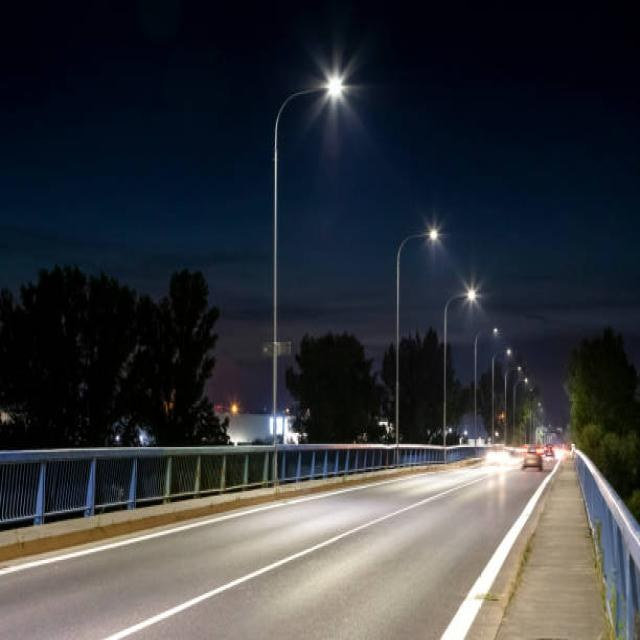acesa: (317, 51, 364, 124), (456, 273, 486, 312), (423, 220, 445, 243)
